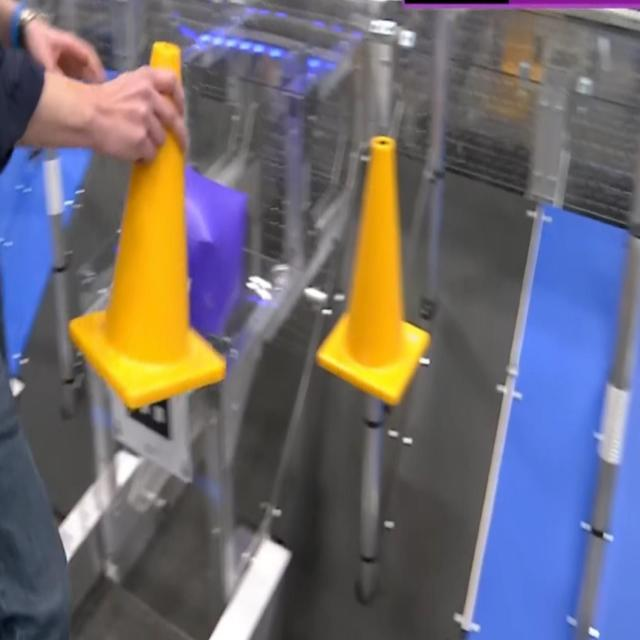frc_cone: (66, 39, 226, 408), (316, 136, 432, 406)
frc_cube: (186, 162, 247, 329)
